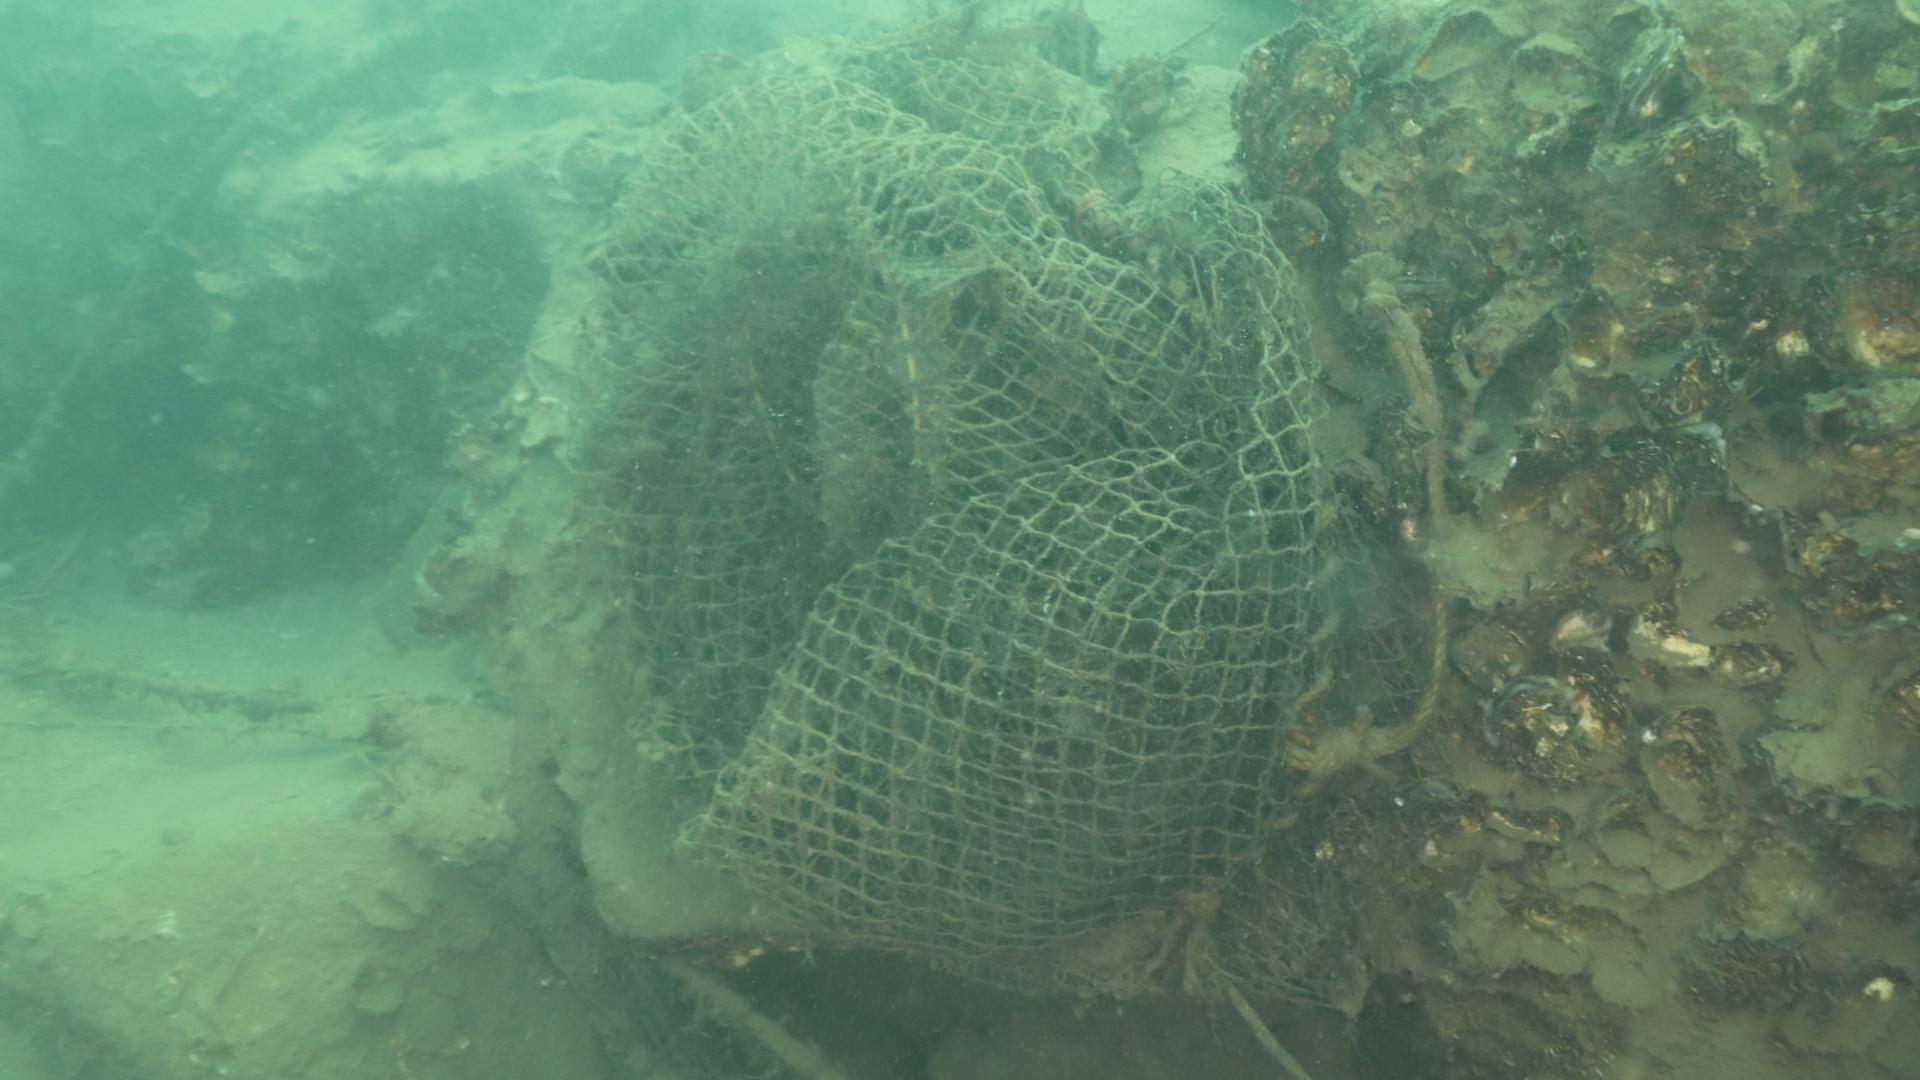bundle of ropes: (1309, 252, 1448, 778)
fish net: (579, 36, 1404, 967)
